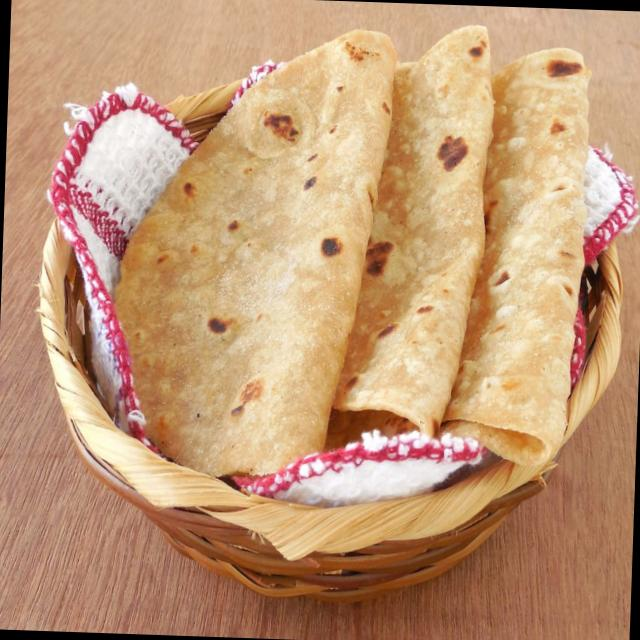roti: (111, 26, 589, 474)
